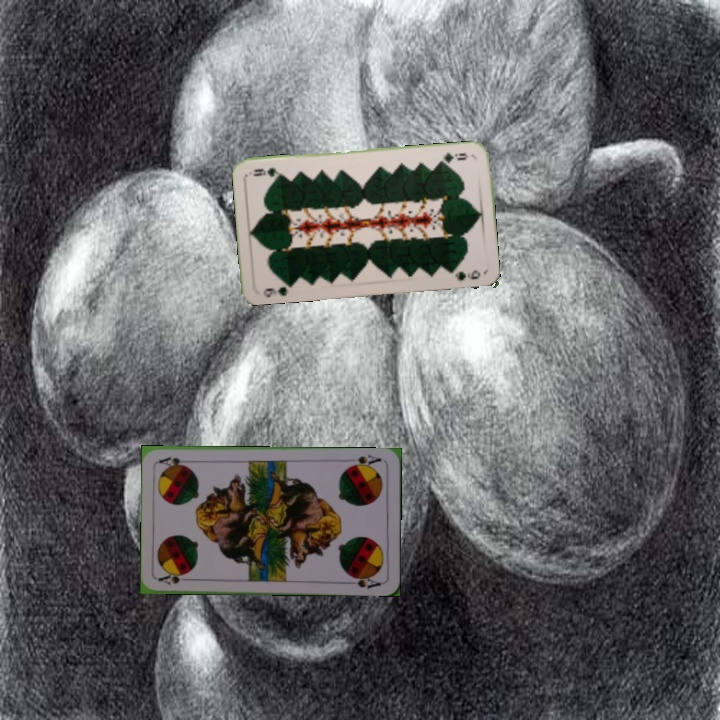G9: (259, 279, 295, 300), (435, 148, 471, 166)
SA: (345, 451, 384, 470), (155, 570, 195, 587)
